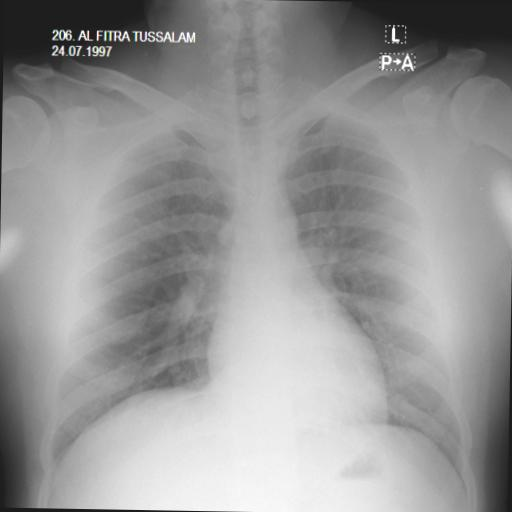normal: (38, 67, 490, 507)
